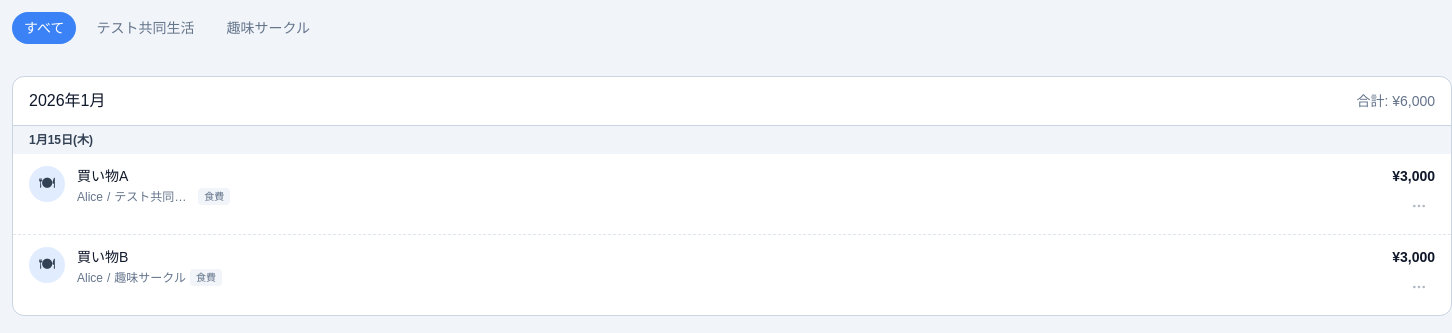
Test: PaymentListWithFilter › フィルタリング › 「すべて」をクリックするとフィルタがリセットされる
The width and height of the screenshot is (1452, 333).
// Filter to group-2
Click the button "趣味サークル": (268, 28) x1=214 y1=12 x2=322 y2=44
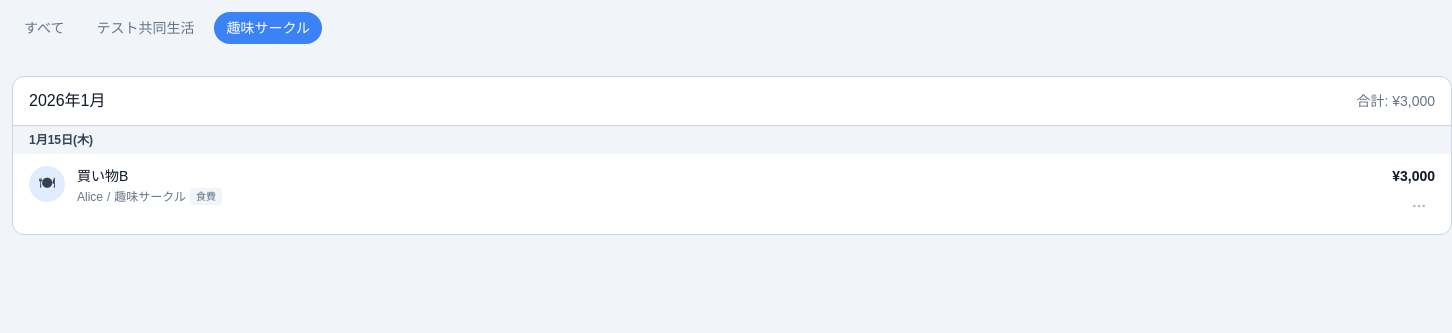
expect the text "買い物A" is gone: met
// Reset filter
Click the button "すべて": (44, 28) x1=12 y1=12 x2=76 y2=44
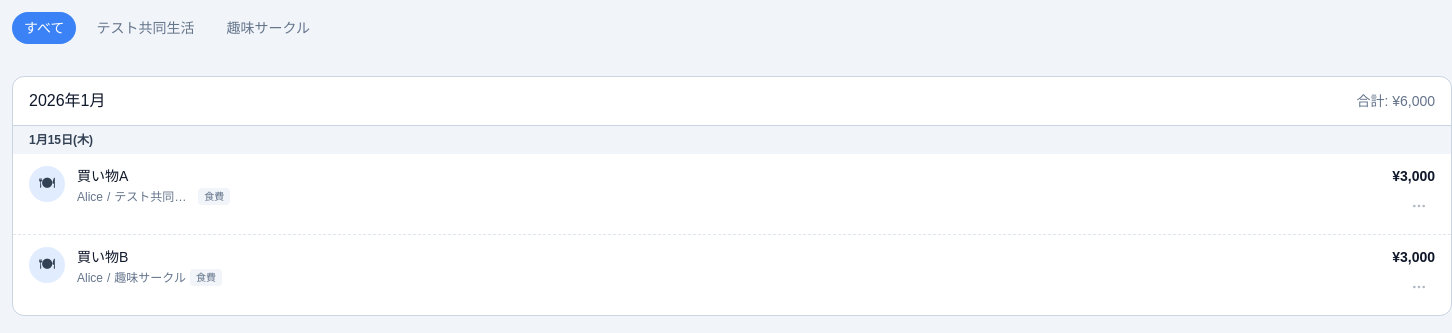
expect the text "買い物B" is shown: met, box x1=77 y1=249 x2=128 y2=265
expect the text "買い物A" is shown: met, box x1=77 y1=168 x2=128 y2=184
